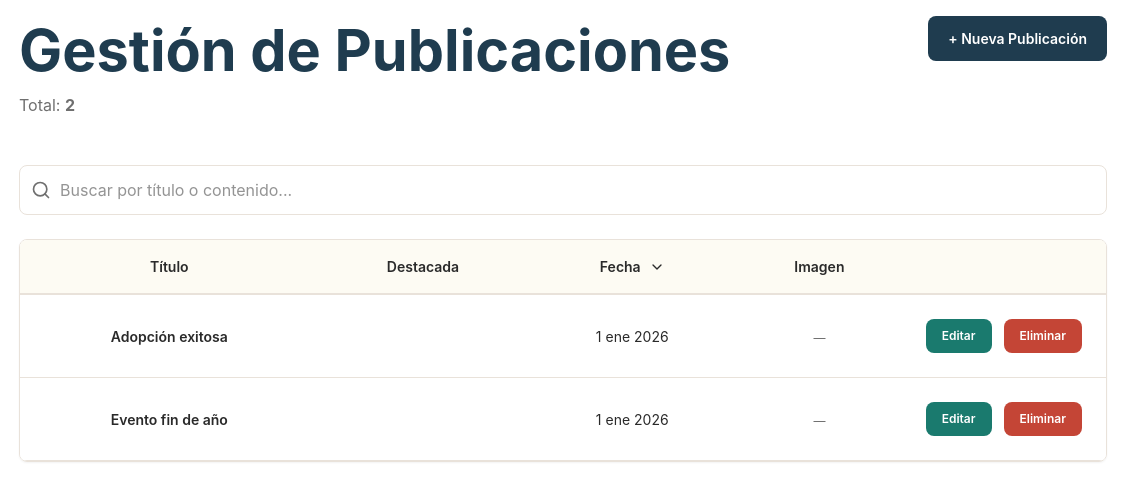
Test: search › filters posts by header
The width and height of the screenshot is (1127, 479).
Type "Adopción" into the field with placeholder "Buscar por título o contenido..." at (563,190), box left=19, top=165, right=1107, bottom=215
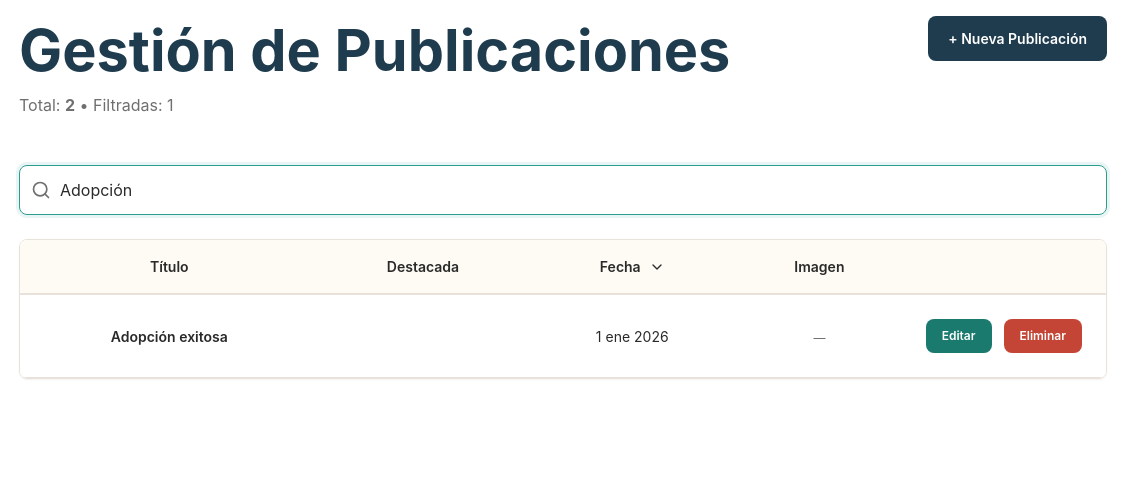
Check: the text "Adopción exitosa" is shown, box left=20, top=294, right=319, bottom=378
Check: the text "Evento fin de año" is gone
